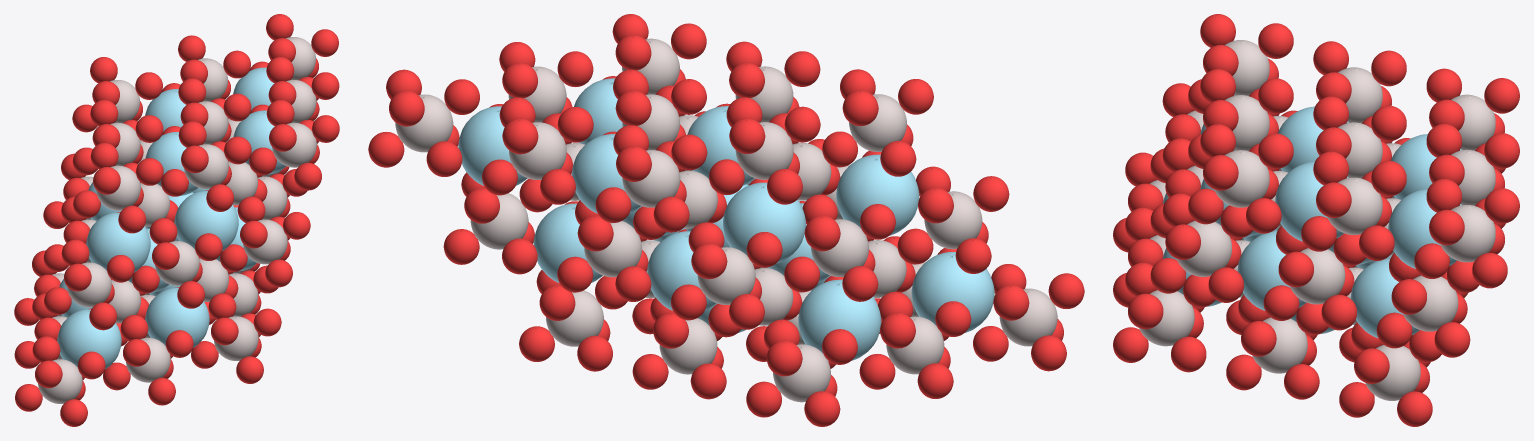
Rendered from LAO_xyz_DAE_Convert.dae.
The picture shows the model from 3 angles, left to right: view 1: azimuth 30°, elevation 25°; view 2: azimuth 150°, elevation 25°; view 3: azimuth 270°, elevation 25°; orthographic projection. The views are drawn at different scales.
Visible parts, largest first — view 1: Lanthanum|Ball (NURBS)_Lanthanum|Dupli|8.0.0.0.0.0.0.0.0, Lanthanum|Ball (NURBS)_Lanthanum|Dupli|9.0.0.0.0.0.0.0.0, Lanthanum|Ball (NURBS)_Lanthanum|Dupli|12.0.0.0.0.0.0.0.0, Lanthanum|Ball (NURBS)_Lanthanum|Dupli|13.0.0.0.0.0.0.0.0, Lanthanum|Ball (NURBS)_Lanthanum|Dupli|5.0.0.0.0.0.0.0.0, Lanthanum|Ball (NURBS)_Lanthanum|Dupli|1.0.0.0.0.0.0.0.0, Aluminium|Ball (NURBS)_Aluminium|Dupli|9.0.0.0.0.0.0.0.0, Aluminium|Ball (NURBS)_Aluminium|Dupli|27.0.0.0.0.0.0.0.0, Aluminium|Ball (NURBS)_Aluminium|Dupli|17.0.0.0.0.0.0.0.0, Aluminium|Ball (NURBS)_Aluminium|Dupli|19.0.0.0.0.0.0.0.0, Aluminium|Ball (NURBS)_Aluminium|Dupli|10.0.0.0.0.0.0.0.0, Aluminium|Ball (NURBS)_Aluminium|Dupli|28.0.0.0.0.0.0.0.0 (+98 smaller); view 2: Lanthanum|Ball (NURBS)_Lanthanum|Dupli|10.0.0.0.0.0.0.0.0, Lanthanum|Ball (NURBS)_Lanthanum|Dupli|9.0.0.0.0.0.0.0.0, Lanthanum|Ball (NURBS)_Lanthanum|Dupli|11.0.0.0.0.0.0.0.0, Lanthanum|Ball (NURBS)_Lanthanum|Dupli|8.0.0.0.0.0.0.0.0, Lanthanum|Ball (NURBS)_Lanthanum|Dupli|2.0.0.0.0.0.0.0.0, Lanthanum|Ball (NURBS)_Lanthanum|Dupli|3.0.0.0.0.0.0.0.0, Lanthanum|Ball (NURBS)_Lanthanum|Dupli|6.0.0.0.0.0.0.0.0, Lanthanum|Ball (NURBS)_Lanthanum|Dupli|7.0.0.0.0.0.0.0.0, Lanthanum|Ball (NURBS)_Lanthanum|Dupli|1.0.0.0.0.0.0.0.0, Aluminium|Ball (NURBS)_Aluminium|Dupli|34.0.0.0.0.0.0.0.0, Aluminium|Ball (NURBS)_Aluminium|Dupli|8.0.0.0.0.0.0.0.0, Aluminium|Ball (NURBS)_Aluminium|Dupli|16.0.0.0.0.0.0.0.0 (+104 smaller); view 3: Lanthanum|Ball (NURBS)_Lanthanum|Dupli|5.0.0.0.0.0.0.0.0, Lanthanum|Ball (NURBS)_Lanthanum|Dupli|7.0.0.0.0.0.0.0.0, Lanthanum|Ball (NURBS)_Lanthanum|Dupli|4.0.0.0.0.0.0.0.0, Lanthanum|Ball (NURBS)_Lanthanum|Dupli|6.0.0.0.0.0.0.0.0, Aluminium|Ball (NURBS)_Aluminium|Dupli|28.0.0.0.0.0.0.0.0, Aluminium|Ball (NURBS)_Aluminium|Dupli|31.0.0.0.0.0.0.0.0, Aluminium|Ball (NURBS)_Aluminium|Dupli|34.0.0.0.0.0.0.0.0, Aluminium|Ball (NURBS)_Aluminium|Dupli|26.0.0.0.0.0.0.0.0, Aluminium|Ball (NURBS)_Aluminium|Dupli|33.0.0.0.0.0.0.0.0, Aluminium|Ball (NURBS)_Aluminium|Dupli|29.0.0.0.0.0.0.0.0, Aluminium|Ball (NURBS)_Aluminium|Dupli|30.0.0.0.0.0.0.0.0, Aluminium|Ball (NURBS)_Aluminium|Dupli|27.0.0.0.0.0.0.0.0 (+88 smaller).
Boxes of the visible parts, <box> form: Lanthanum|Ball (NURBS)_Lanthanum|Dupli|8.0.0.0.0.0.0.0.0: <box>57,309,121,369</box>; Lanthanum|Ball (NURBS)_Lanthanum|Dupli|9.0.0.0.0.0.0.0.0: <box>86,212,150,272</box>; Lanthanum|Ball (NURBS)_Lanthanum|Dupli|12.0.0.0.0.0.0.0.0: <box>145,287,209,347</box>; Lanthanum|Ball (NURBS)_Lanthanum|Dupli|13.0.0.0.0.0.0.0.0: <box>174,191,238,250</box>; Lanthanum|Ball (NURBS)_Lanthanum|Dupli|5.0.0.0.0.0.0.0.0: <box>233,110,285,174</box>; Lanthanum|Ball (NURBS)_Lanthanum|Dupli|1.0.0.0.0.0.0.0.0: <box>145,132,198,195</box>; Aluminium|Ball (NURBS)_Aluminium|Dupli|9.0.0.0.0.0.0.0.0: <box>67,262,111,307</box>; Aluminium|Ball (NURBS)_Aluminium|Dupli|27.0.0.0.0.0.0.0.0: <box>243,219,287,264</box>; Aluminium|Ball (NURBS)_Aluminium|Dupli|17.0.0.0.0.0.0.0.0: <box>126,337,170,382</box>; Aluminium|Ball (NURBS)_Aluminium|Dupli|19.0.0.0.0.0.0.0.0: <box>184,144,228,188</box>; Aluminium|Ball (NURBS)_Aluminium|Dupli|10.0.0.0.0.0.0.0.0: <box>96,165,140,210</box>; Aluminium|Ball (NURBS)_Aluminium|Dupli|28.0.0.0.0.0.0.0.0: <box>272,122,316,167</box>; Lanthanum|Ball (NURBS)_Lanthanum|Dupli|10.0.0.0.0.0.0.0.0: <box>798,279,881,360</box>; Lanthanum|Ball (NURBS)_Lanthanum|Dupli|9.0.0.0.0.0.0.0.0: <box>836,154,919,235</box>; Lanthanum|Ball (NURBS)_Lanthanum|Dupli|11.0.0.0.0.0.0.0.0: <box>723,182,805,263</box>; Lanthanum|Ball (NURBS)_Lanthanum|Dupli|8.0.0.0.0.0.0.0.0: <box>911,252,994,332</box>; Lanthanum|Ball (NURBS)_Lanthanum|Dupli|2.0.0.0.0.0.0.0.0: <box>647,231,716,310</box>; Lanthanum|Ball (NURBS)_Lanthanum|Dupli|3.0.0.0.0.0.0.0.0: <box>572,134,640,213</box>; Lanthanum|Ball (NURBS)_Lanthanum|Dupli|6.0.0.0.0.0.0.0.0: <box>533,203,602,282</box>; Lanthanum|Ball (NURBS)_Lanthanum|Dupli|7.0.0.0.0.0.0.0.0: <box>458,106,527,185</box>; Lanthanum|Ball (NURBS)_Lanthanum|Dupli|1.0.0.0.0.0.0.0.0: <box>687,106,754,185</box>; Aluminium|Ball (NURBS)_Aluminium|Dupli|34.0.0.0.0.0.0.0.0: <box>395,94,453,152</box>; Aluminium|Ball (NURBS)_Aluminium|Dupli|8.0.0.0.0.0.0.0.0: <box>999,288,1057,346</box>; Aluminium|Ball (NURBS)_Aluminium|Dupli|16.0.0.0.0.0.0.0.0: <box>622,150,680,207</box>; Lanthanum|Ball (NURBS)_Lanthanum|Dupli|5.0.0.0.0.0.0.0.0: <box>1275,161,1348,241</box>; Lanthanum|Ball (NURBS)_Lanthanum|Dupli|7.0.0.0.0.0.0.0.0: <box>1388,189,1461,268</box>; Lanthanum|Ball (NURBS)_Lanthanum|Dupli|4.0.0.0.0.0.0.0.0: <box>1237,231,1306,310</box>; Lanthanum|Ball (NURBS)_Lanthanum|Dupli|6.0.0.0.0.0.0.0.0: <box>1350,258,1419,338</box>; Aluminium|Ball (NURBS)_Aluminium|Dupli|28.0.0.0.0.0.0.0.0: <box>1214,150,1269,207</box>; Aluminium|Ball (NURBS)_Aluminium|Dupli|31.0.0.0.0.0.0.0.0: <box>1327,177,1382,234</box>; Aluminium|Ball (NURBS)_Aluminium|Dupli|34.0.0.0.0.0.0.0.0: <box>1440,205,1495,262</box>; Aluminium|Ball (NURBS)_Aluminium|Dupli|26.0.0.0.0.0.0.0.0: <box>1139,290,1194,346</box>; Aluminium|Ball (NURBS)_Aluminium|Dupli|33.0.0.0.0.0.0.0.0: <box>1403,275,1458,331</box>; Aluminium|Ball (NURBS)_Aluminium|Dupli|29.0.0.0.0.0.0.0.0: <box>1252,317,1307,373</box>; Aluminium|Ball (NURBS)_Aluminium|Dupli|30.0.0.0.0.0.0.0.0: <box>1290,248,1345,304</box>; Aluminium|Ball (NURBS)_Aluminium|Dupli|27.0.0.0.0.0.0.0.0: <box>1177,221,1231,276</box>.
Size of the model in its own units: 25.62 by 16.68 by 12.7.
